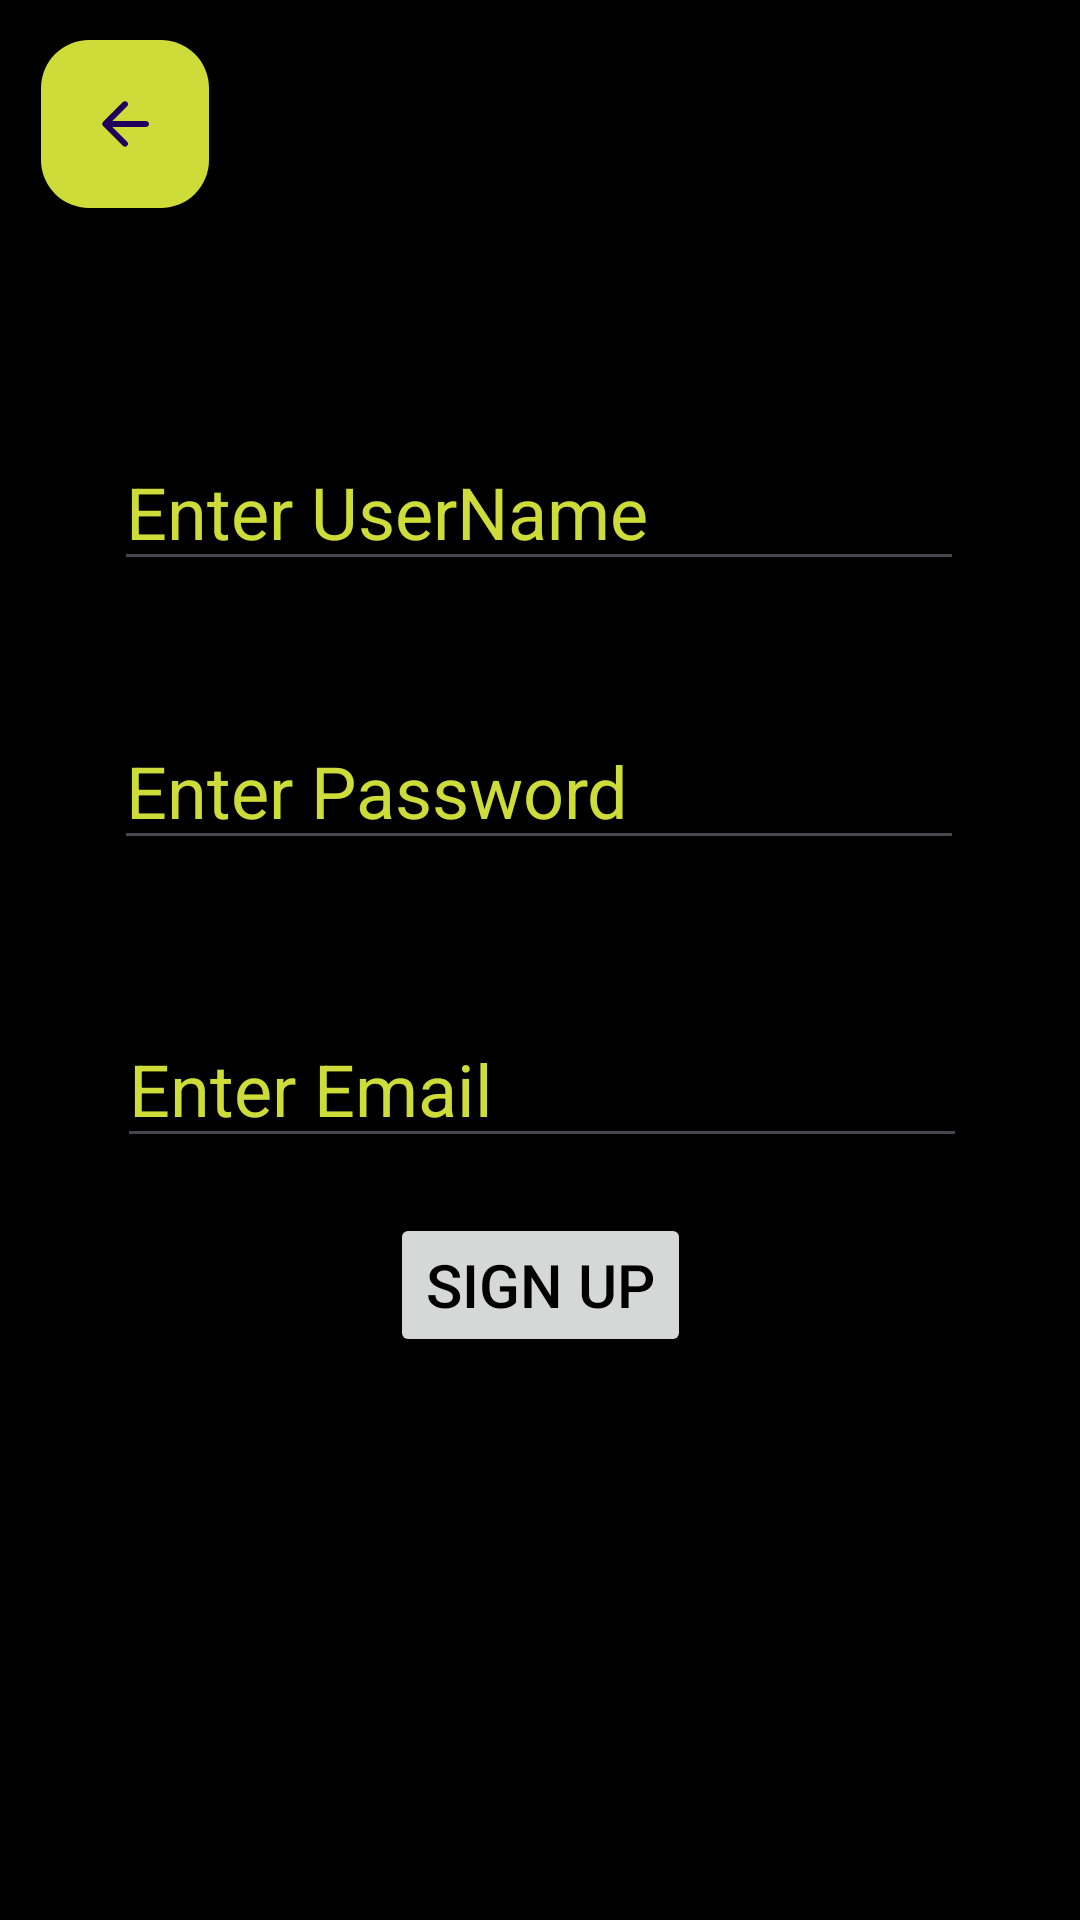

Where to tap for icons on this 1080*1920 app screen, as point (x, y):
arrow back: point (125, 124)
